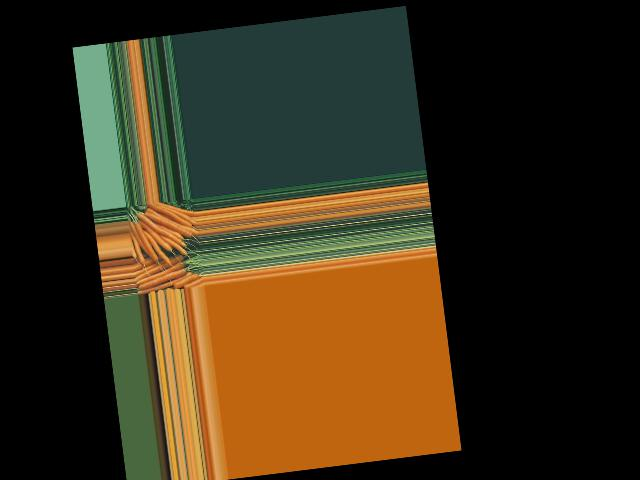carrot: (130, 220, 154, 262)
